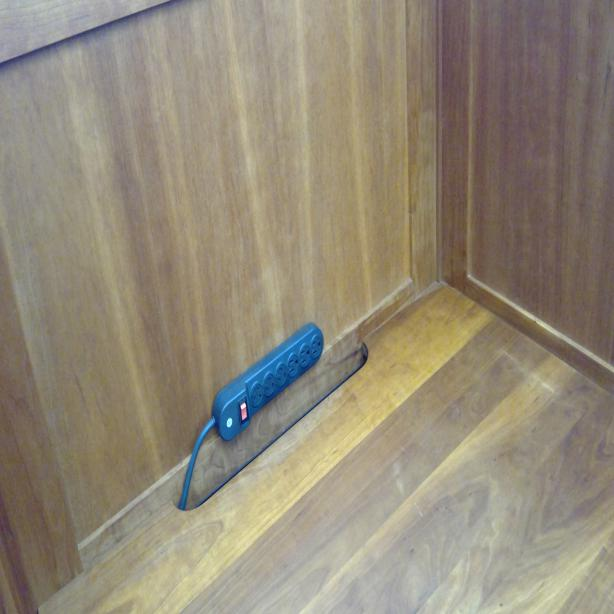typeb: (308, 336, 322, 360), (250, 381, 264, 404), (274, 363, 287, 385), (298, 346, 310, 367), (287, 353, 298, 375), (263, 374, 275, 394)
